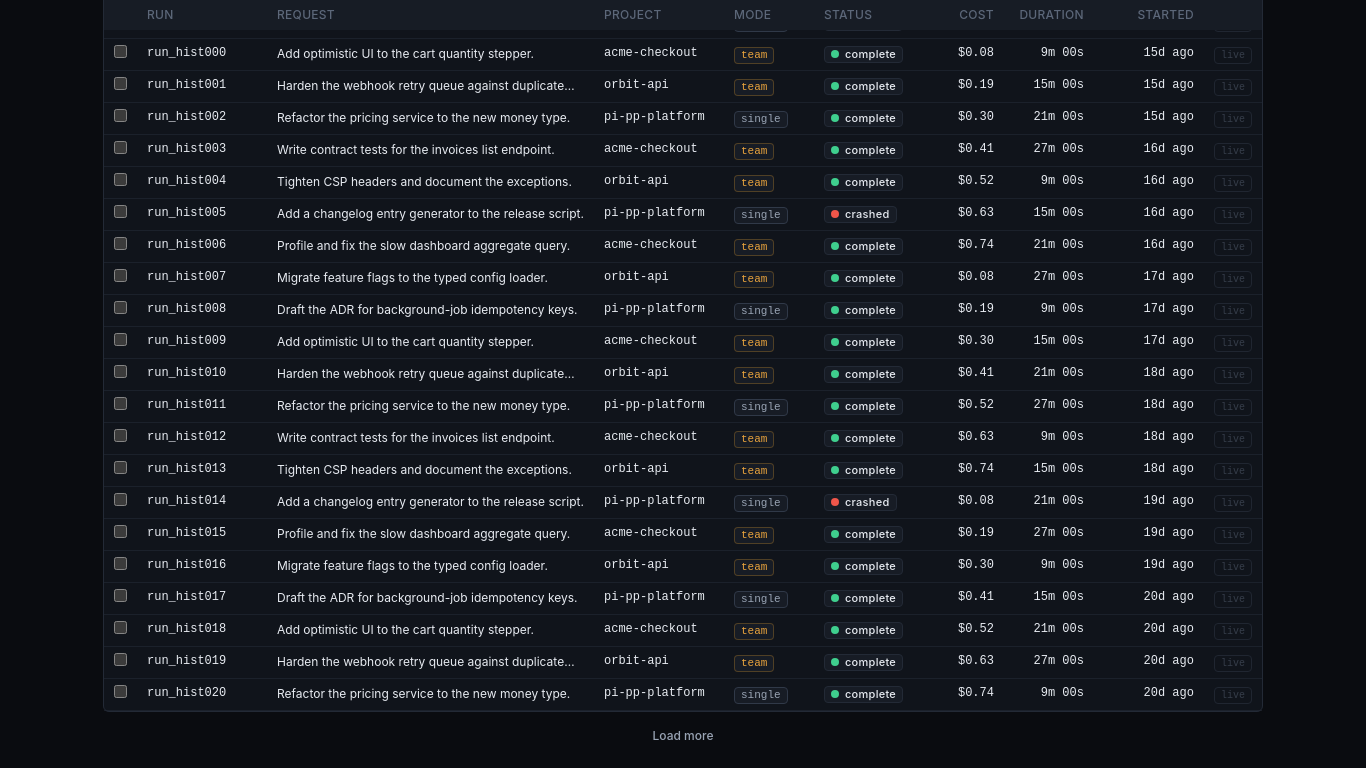
Test case: RunsPage — cursor pagination over the {items,next_cursor} envelope › loads page 1, disables sorting while more pages remain, then Load more → End of history
(page scrolled)
Expected: the text "↕" is not shown
Click the button "Load more". click: point(683, 736)
box: [644,724,722,748]
(page scrolled)
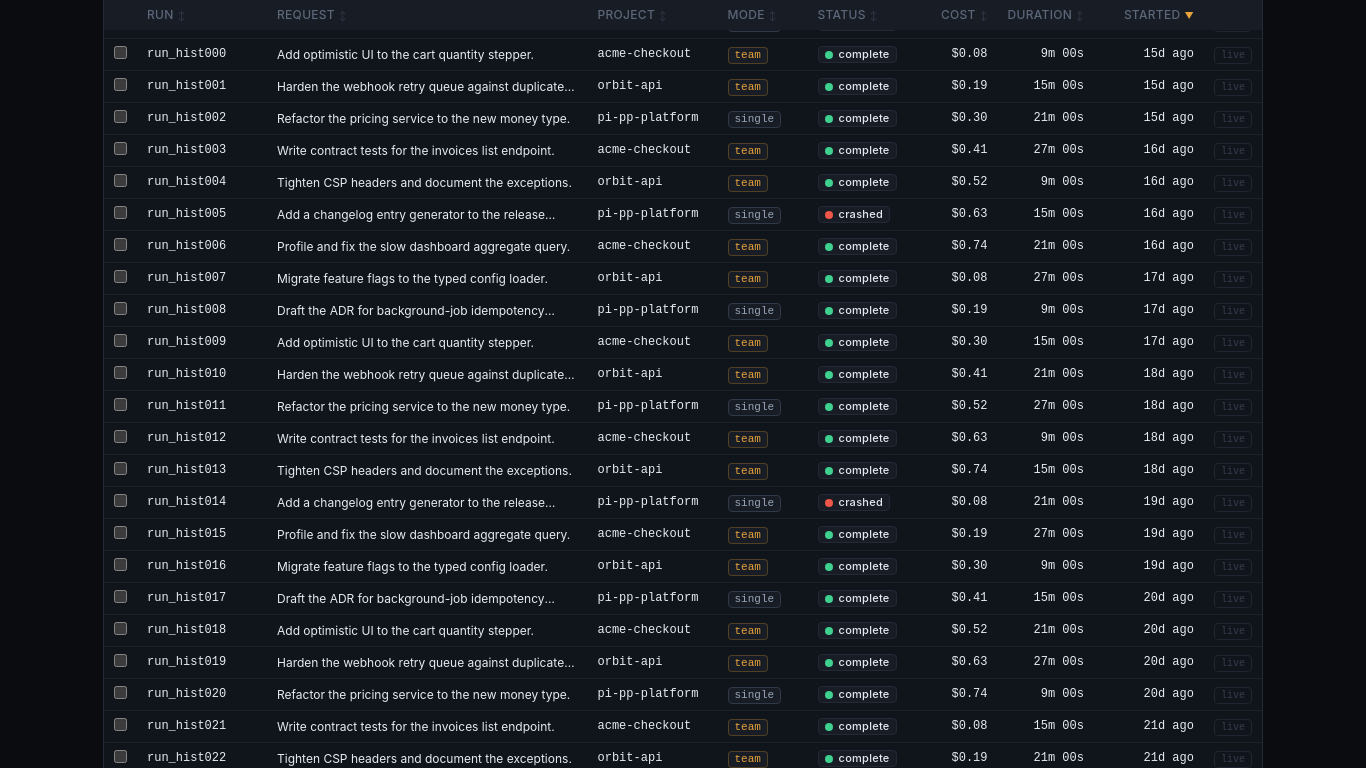
Expected: the element that starts with "Run" shows "↕", [178,9,186,20]
